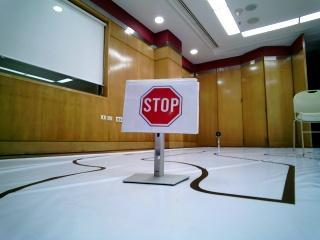stop: (123, 81, 199, 130)
